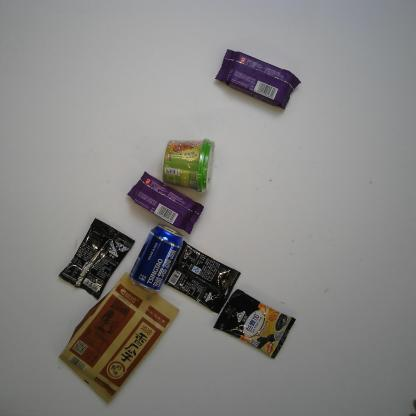Alcohol: (130, 222, 184, 295)
Dessert: (213, 47, 305, 111), (125, 169, 205, 236)
Dried Food: (55, 269, 182, 407)
Instant Drink: (57, 214, 136, 302), (212, 288, 298, 362), (161, 240, 241, 315), (162, 138, 218, 195)
